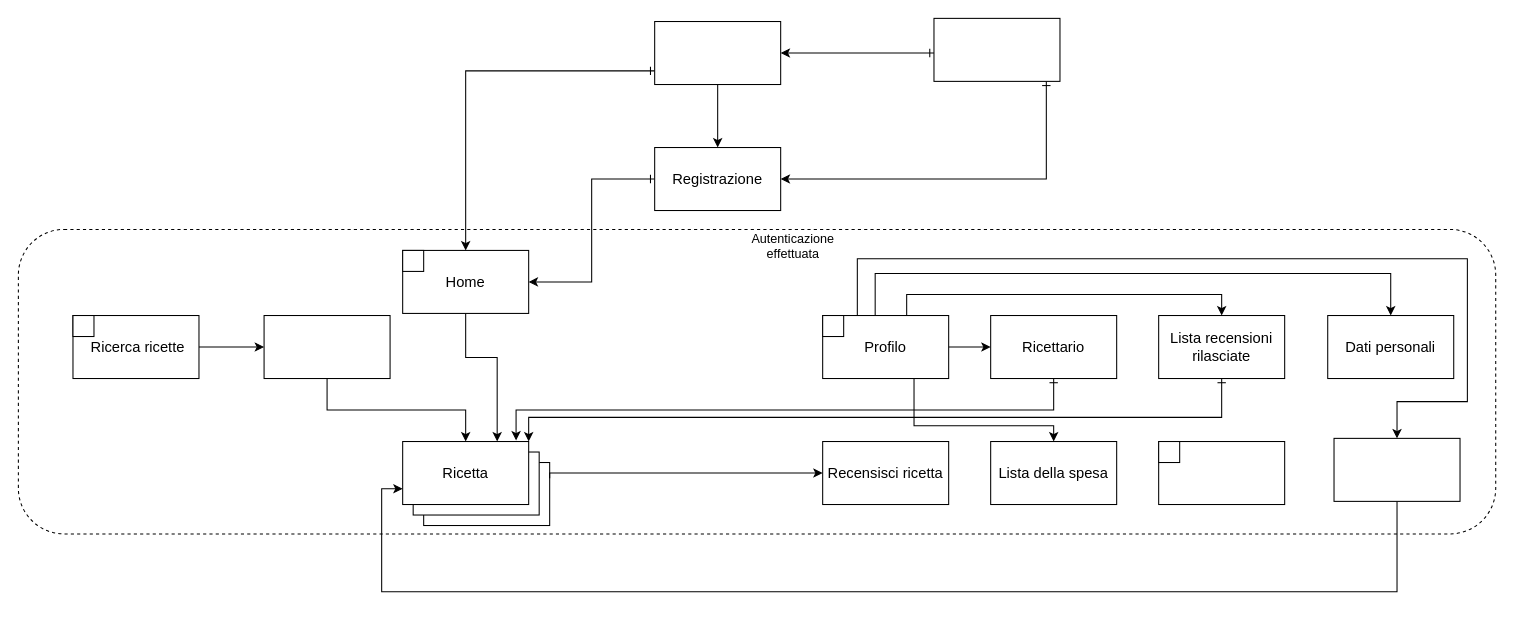
This 1514x618 diagram has some shape labels left out. Here are the shapes that lost their labels. From the top down, the box of each, then its label:
(654, 20, 781, 85): Login
(933, 17, 1060, 81): Pagina di caricamento
(263, 314, 390, 379): Lista ricette
(1158, 440, 1285, 505): Aggiungi nuova ricetta
(1333, 437, 1460, 501): Ricette pubblicate
